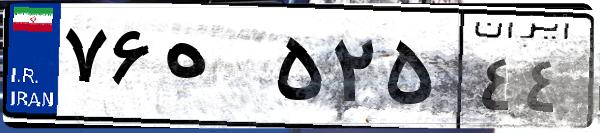2: (330, 28, 385, 110)
4: (475, 38, 525, 113), (525, 38, 570, 115)
5: (270, 28, 330, 110), (385, 28, 445, 110)
6: (110, 28, 158, 98)
7: (57, 26, 110, 100)
ه: (158, 20, 270, 120)
